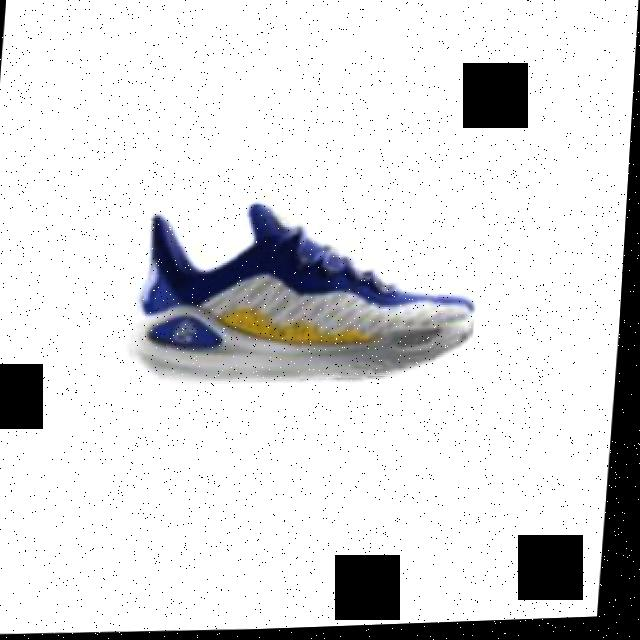shoe: (129, 198, 486, 392)
